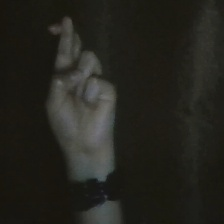R: (34, 9, 130, 154)
